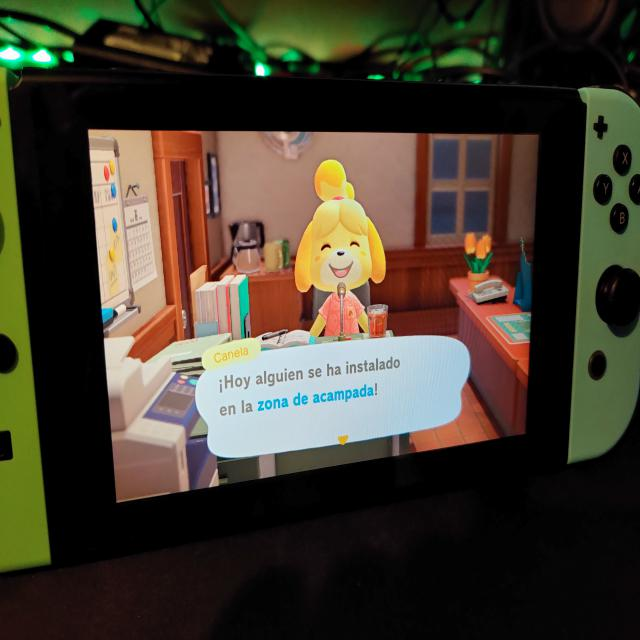text_bubble: (195, 333, 474, 462)
